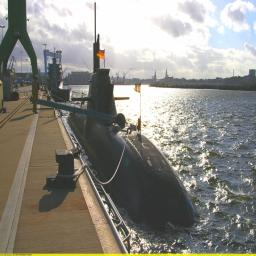submarine: (75, 2, 201, 227)
